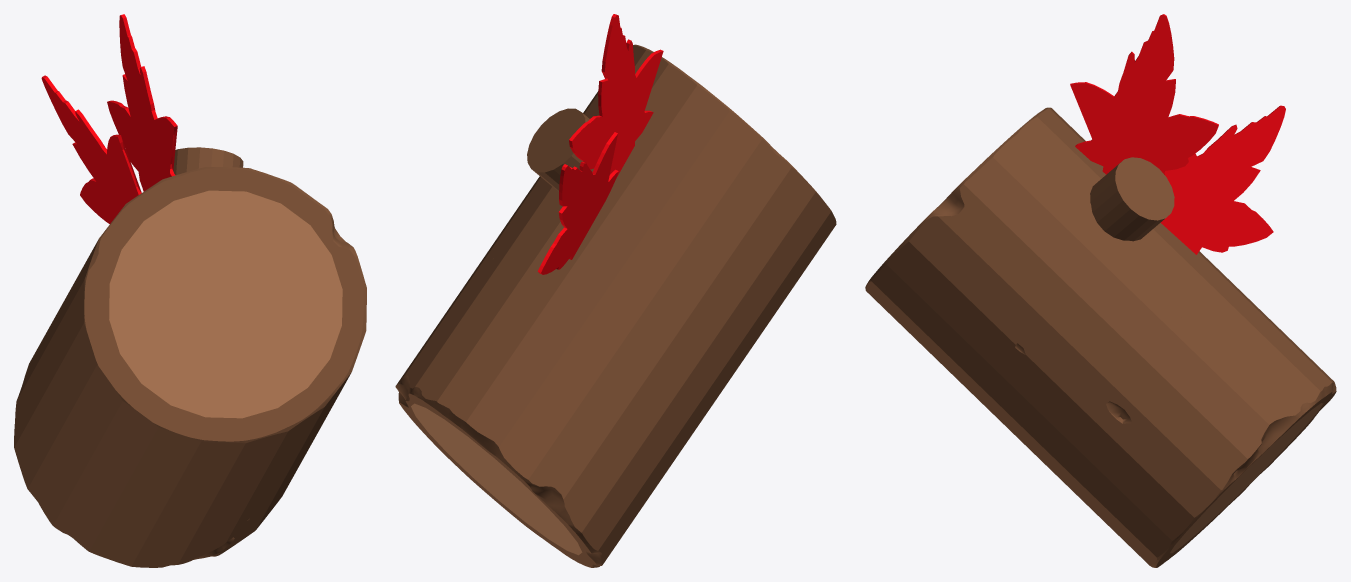
Rendered from wood_forest.fbx.
3 renders of one model, left to right at view 1: azimuth 30°, elevation 25°; view 2: azimuth 150°, elevation 25°; view 3: azimuth 270°, elevation 25°, orthographic. The views are drawn at different scales.
Parts seen in each view (by area): view 1: Cylinder, Plane, Plane.001, Cylinder.001; view 2: Cylinder, Plane, Plane.001, Cylinder.001; view 3: Cylinder, Plane, Plane.001, Cylinder.001.
Boxes of the visible parts, x1,y1,x2,y2 form: Cylinder: (14,167,366,567); Plane: (107,14,177,191); Plane.001: (41,75,141,223); Cylinder.001: (173,147,243,175); Cylinder: (395,44,836,567); Plane: (569,14,663,176); Plane.001: (537,132,618,274); Cylinder.001: (527,108,593,191); Cylinder: (865,107,1336,567); Plane: (1070,14,1218,174); Plane.001: (1160,105,1285,254); Cylinder.001: (1090,157,1174,241).
Bounding box in the file's own units: 111 × 190 × 156.
